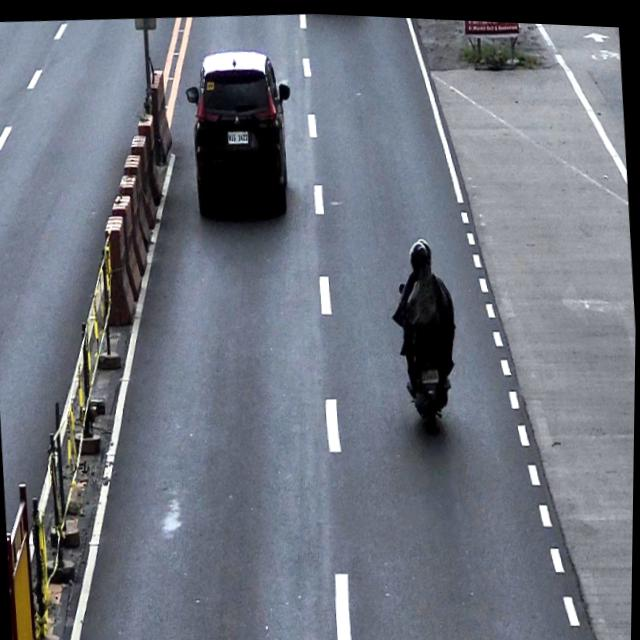Car: (181, 41, 299, 219)
License-Plate: (226, 125, 250, 144), (421, 362, 441, 381)
Motorcycle: (393, 267, 466, 427)
